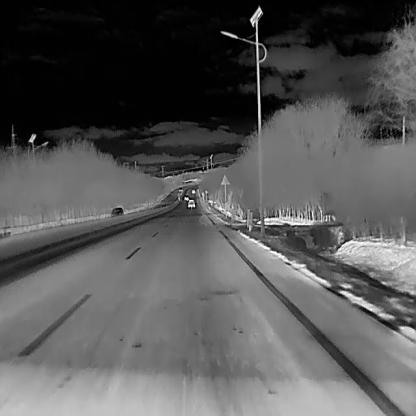car: (109, 207, 122, 217), (187, 198, 194, 207)
